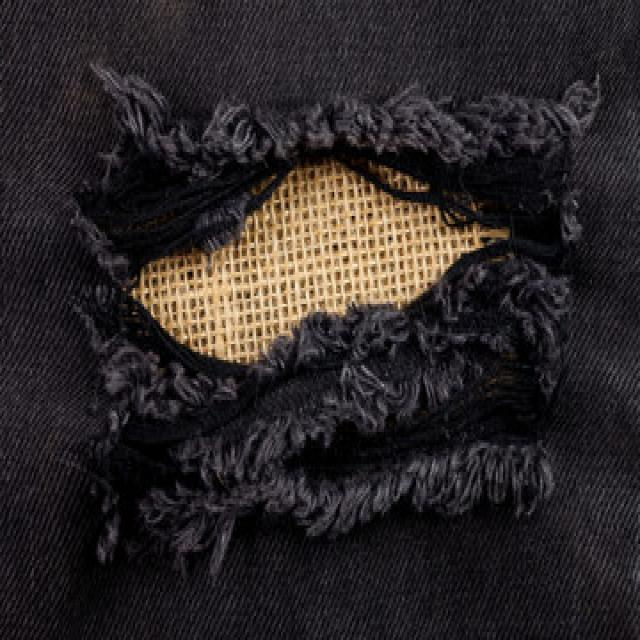Hole: (57, 58, 597, 572)
